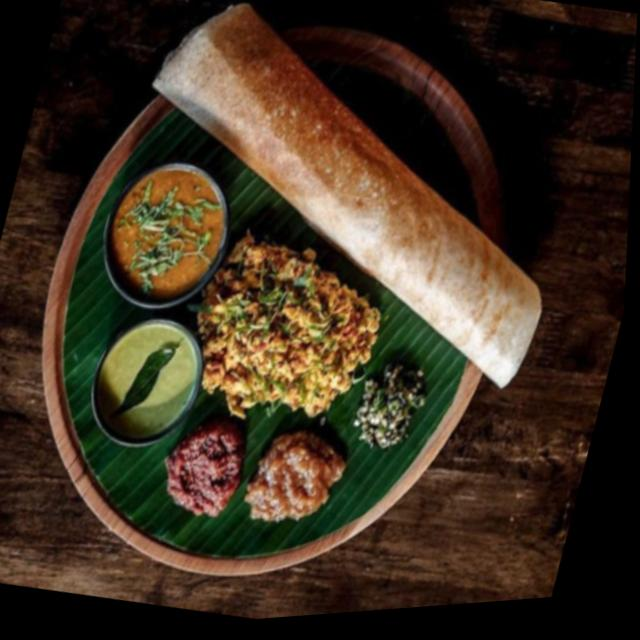DOSA: (154, 5, 540, 386)
PICKLE: (165, 416, 243, 517)
RICE: (42, 111, 470, 568), (182, 213, 424, 430)
SAMBAR: (105, 163, 226, 307)
VEGGIES: (37, 21, 508, 573)
WHITE CHUTNEY: (91, 318, 200, 439)
